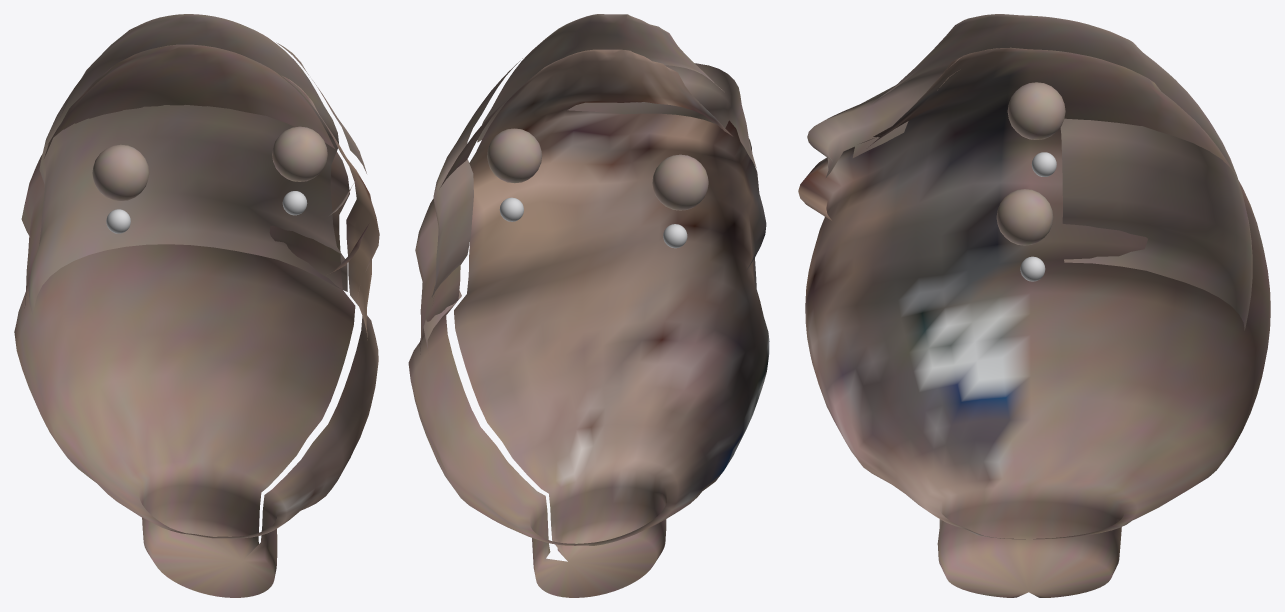
The model's file is avatar_v2_32323ca2.glb.
3 renders of one model, left to right at view 1: azimuth 30°, elevation 25°; view 2: azimuth 150°, elevation 25°; view 3: azimuth 270°, elevation 25°, orthographic. The views are drawn at different scales.
Parts seen in each view (by area): view 1: world; view 2: world; view 3: world.
Part boxes in pixels (x1=…): world: x1=14, y1=14, x2=379, y2=597; world: x1=408, y1=14, x2=769, y2=597; world: x1=798, y1=14, x2=1270, y2=597.
Bounding box in the file's own units: 0.0849 × 0.1449 × 0.1126.
